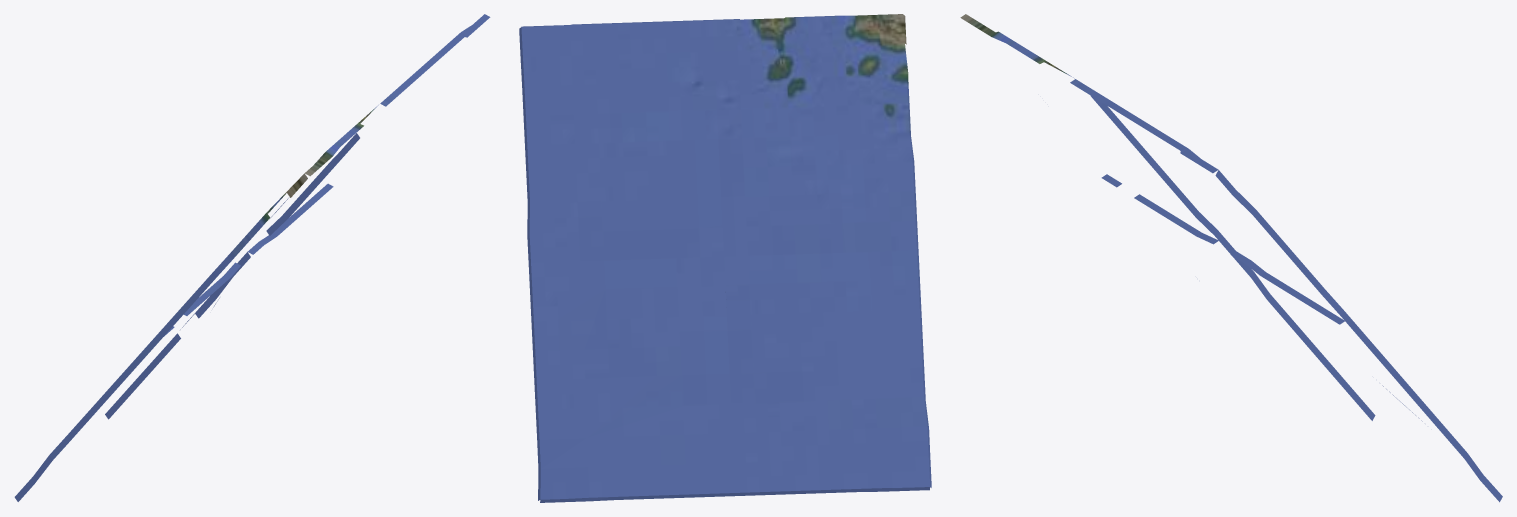
3 renders of one model, left to right at view 1: azimuth 30°, elevation 25°; view 2: azimuth 150°, elevation 25°; view 3: azimuth 270°, elevation 25°, orthographic. The views are drawn at different scales.
Bounding box in the file's own units: 158637 × 126903 × 150958.
1 material, 1 textured.
